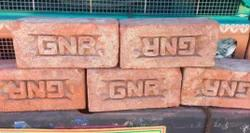brick: (13, 22, 118, 70), (121, 23, 218, 68), (88, 68, 182, 113), (1, 69, 86, 113), (181, 68, 250, 108)
